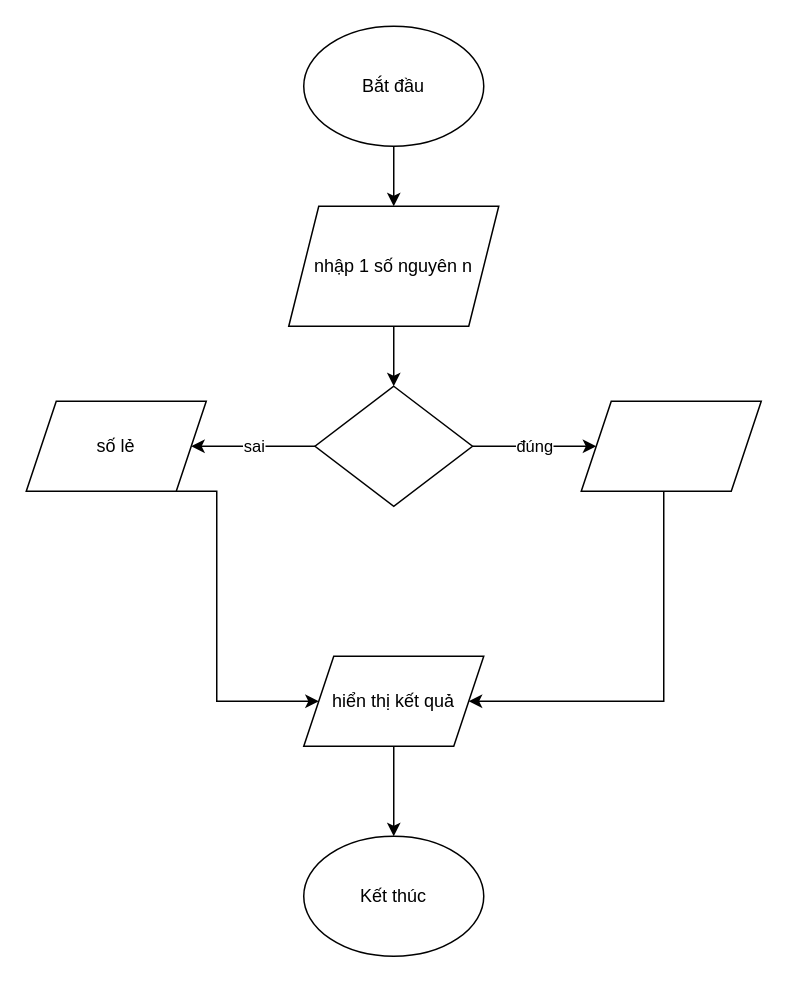
The diagram is 788 pixels wide and 983 high, and some of its shapes have lost their labels. The shapes that lost their labels are listed below. From the top down, each one's centre as x and y in pixels, then its label:
point 393,445: n/2=0
point 670,445: số chẵn
